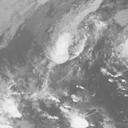cyclone: (47, 40, 68, 63)
